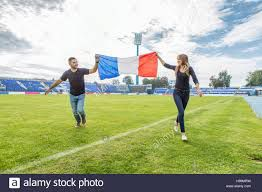French Flag: (95, 50, 158, 79)
